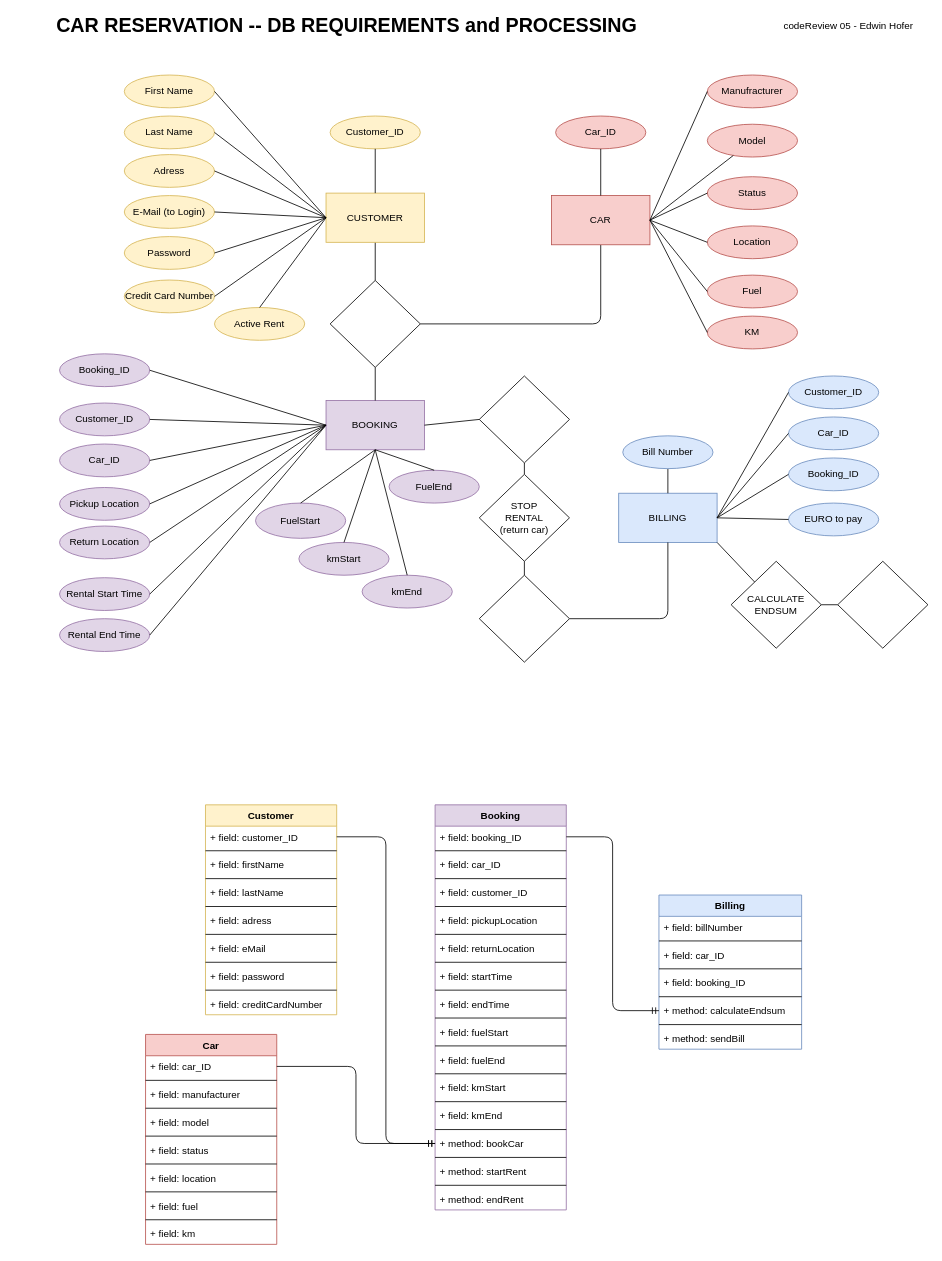
This 942x1261 diagram has some shape labels left out. The shapes that lost their labels are listed below. From the top down, each one's box as (x1, y1, x2, y2) in pixels, then its label:
(329, 280, 420, 367): BOOKING PROCESS
(478, 375, 569, 463): START RENTAL
(478, 574, 569, 662): WRITE BILL
(837, 560, 928, 648): SEND BILL TO CUSTOMER
